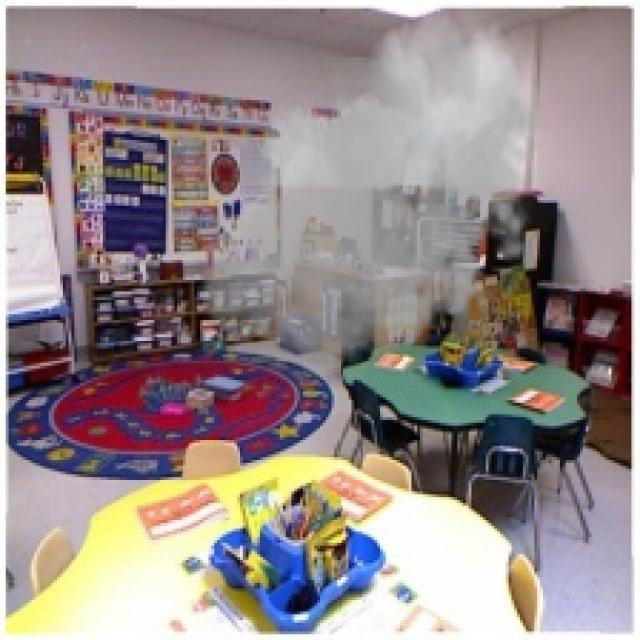Smoke: (194, 2, 552, 392)
